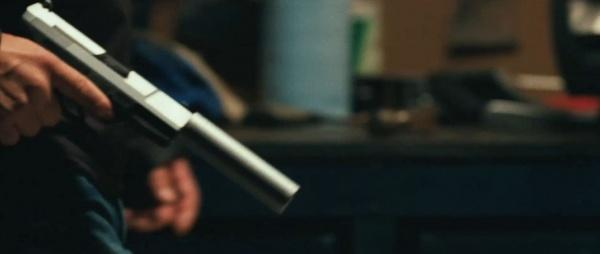Gun: (21, 0, 302, 218)
